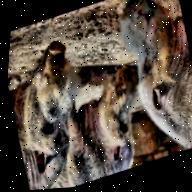boar: (6, 59, 161, 192), (0, 34, 109, 192), (100, 0, 192, 167)
